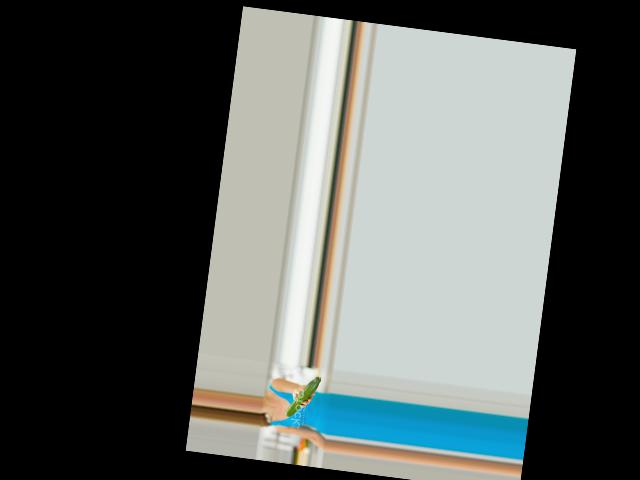cucumber: (285, 373, 321, 420)
